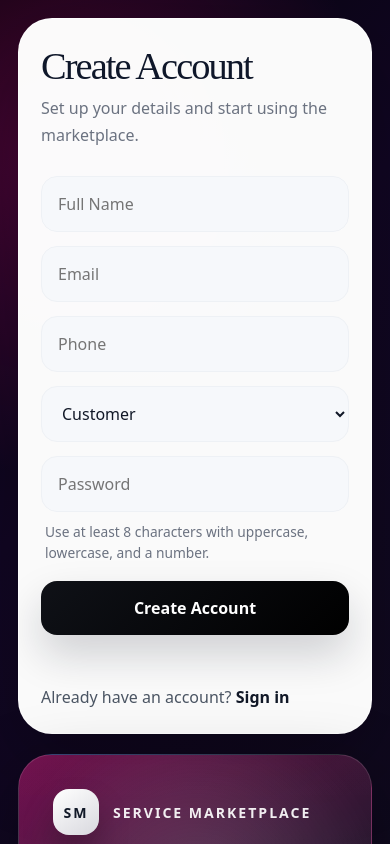
Test: shows local validation for weak password on registration
Type "Test Customer" into the field with placeholder "Full Name" at [195, 204], box top-left (41, 176), bottom-right (349, 232)
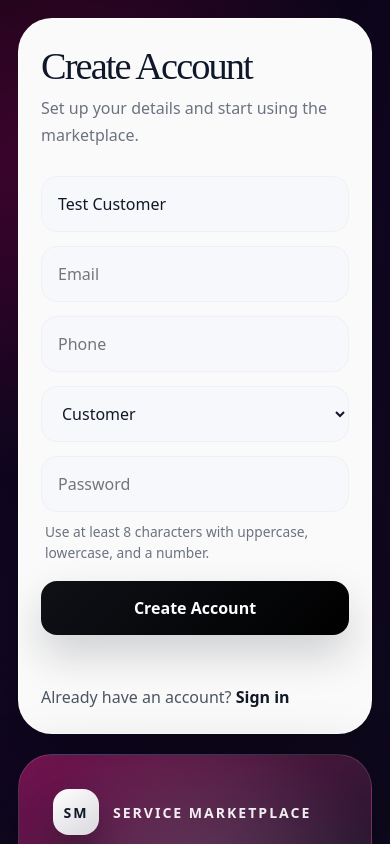
Type "customer7@test.com" into the field with placeholder "Email" at [195, 274], box top-left (41, 246), bottom-right (349, 302)
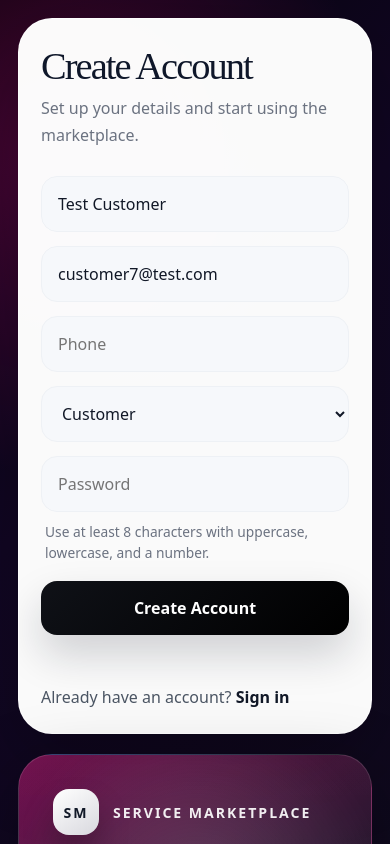
Type "1234567890" into the field with placeholder "Phone" at [195, 344], box top-left (41, 316), bottom-right (349, 372)
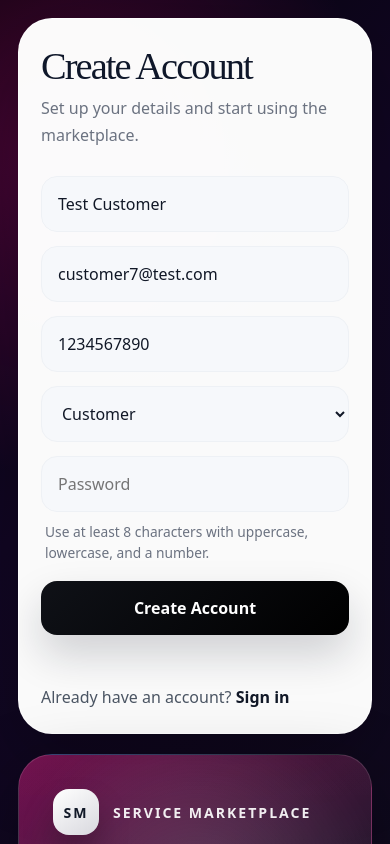
Type "weakpass" into the password field with placeholder "Password" at [195, 484], box top-left (41, 456), bottom-right (349, 512)
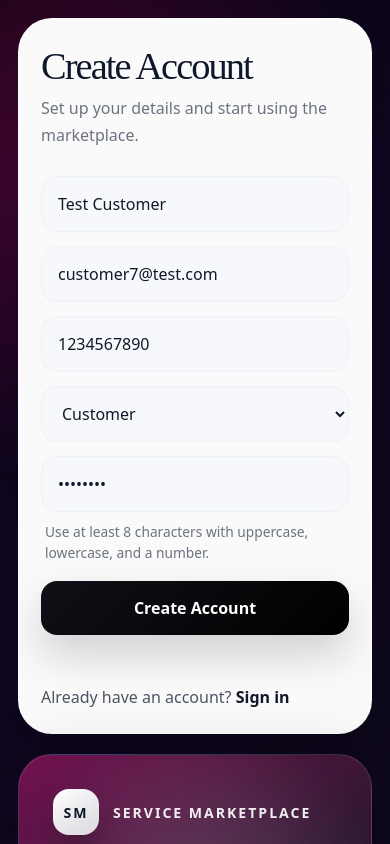
Click the button "Create Account" at [195, 608], box top-left (41, 582), bottom-right (349, 636)
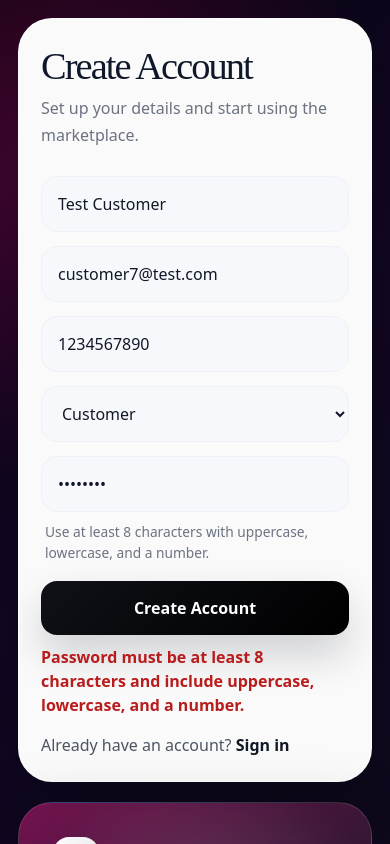
Expected: the text "Password must be at least 8 characters" is shown, top-left (41, 646), bottom-right (314, 716)
